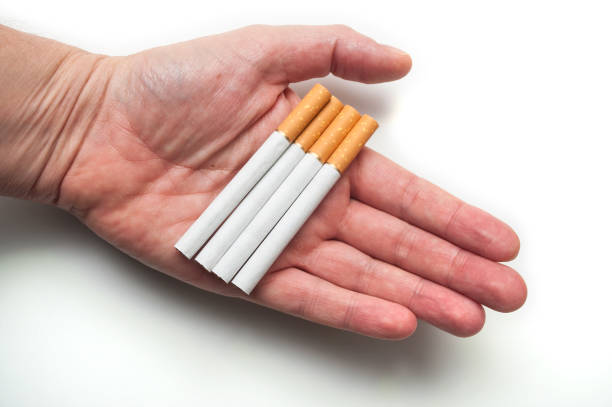cigarette: (173, 81, 332, 260), (230, 111, 381, 297), (213, 102, 363, 285), (194, 94, 343, 273)
